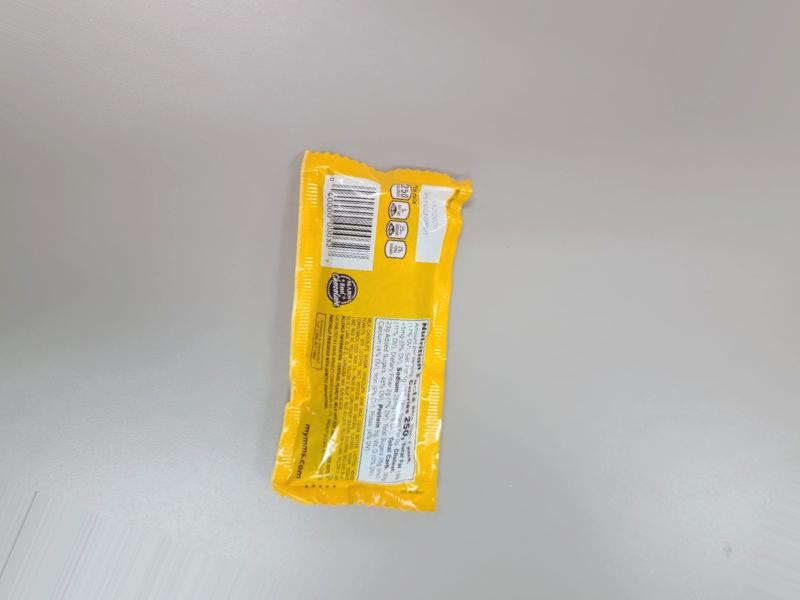m&m: (281, 131, 460, 496)
